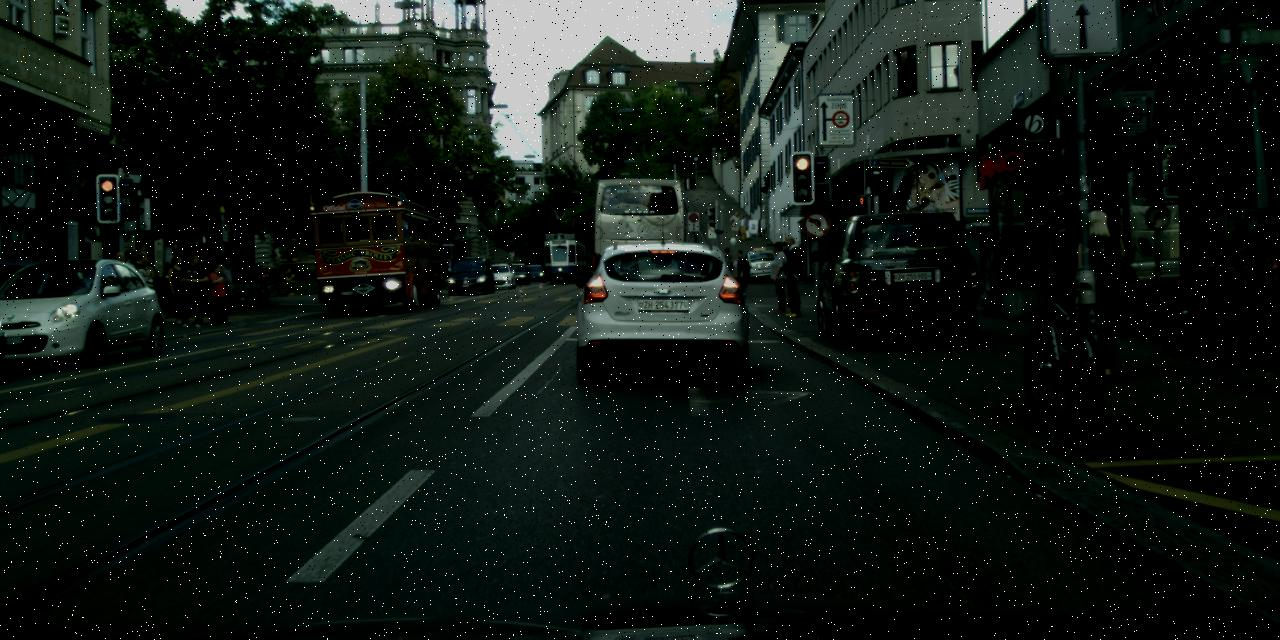ped: (1058, 209, 1128, 378), (776, 235, 809, 316), (178, 252, 208, 326), (765, 240, 794, 312), (126, 242, 154, 312), (164, 255, 192, 322), (212, 255, 239, 323), (125, 251, 152, 317), (114, 248, 139, 311), (204, 263, 229, 323), (107, 251, 131, 311), (133, 255, 156, 312), (731, 250, 750, 298), (718, 246, 734, 284), (779, 240, 792, 274), (730, 212, 741, 240), (738, 213, 748, 239), (443, 258, 453, 282)
